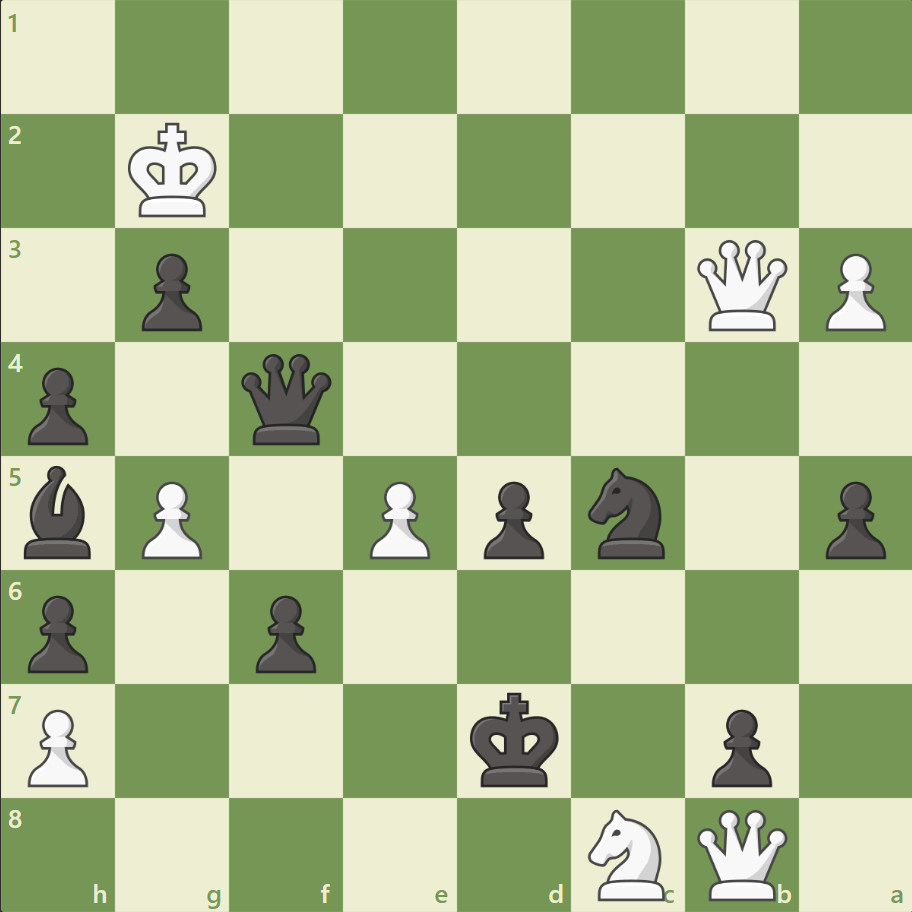K: (124, 117, 224, 225)
N: (579, 802, 676, 904)
P: (20, 700, 95, 791), (133, 473, 208, 564), (361, 473, 435, 564), (815, 246, 889, 337)
Q: (691, 804, 790, 903), (691, 236, 790, 335)
b: (17, 460, 101, 563)
k: (465, 685, 565, 793)
n: (579, 461, 676, 564)
p: (701, 700, 776, 791), (247, 586, 322, 677), (20, 586, 95, 677), (474, 473, 549, 564), (20, 359, 95, 450), (133, 246, 208, 337), (815, 473, 889, 564)
q: (237, 349, 336, 449)
